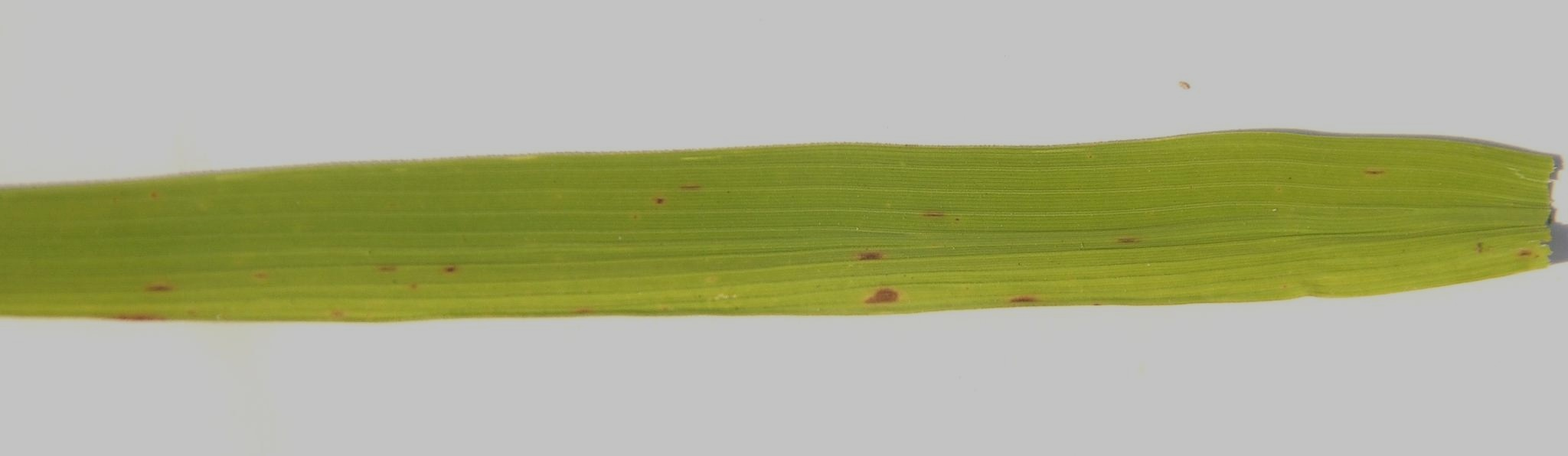Bacterial_Leaf_Blight: (831, 220, 934, 312), (642, 166, 716, 211), (360, 261, 476, 282), (1000, 274, 1045, 319), (1107, 228, 1165, 252), (140, 270, 176, 303)
